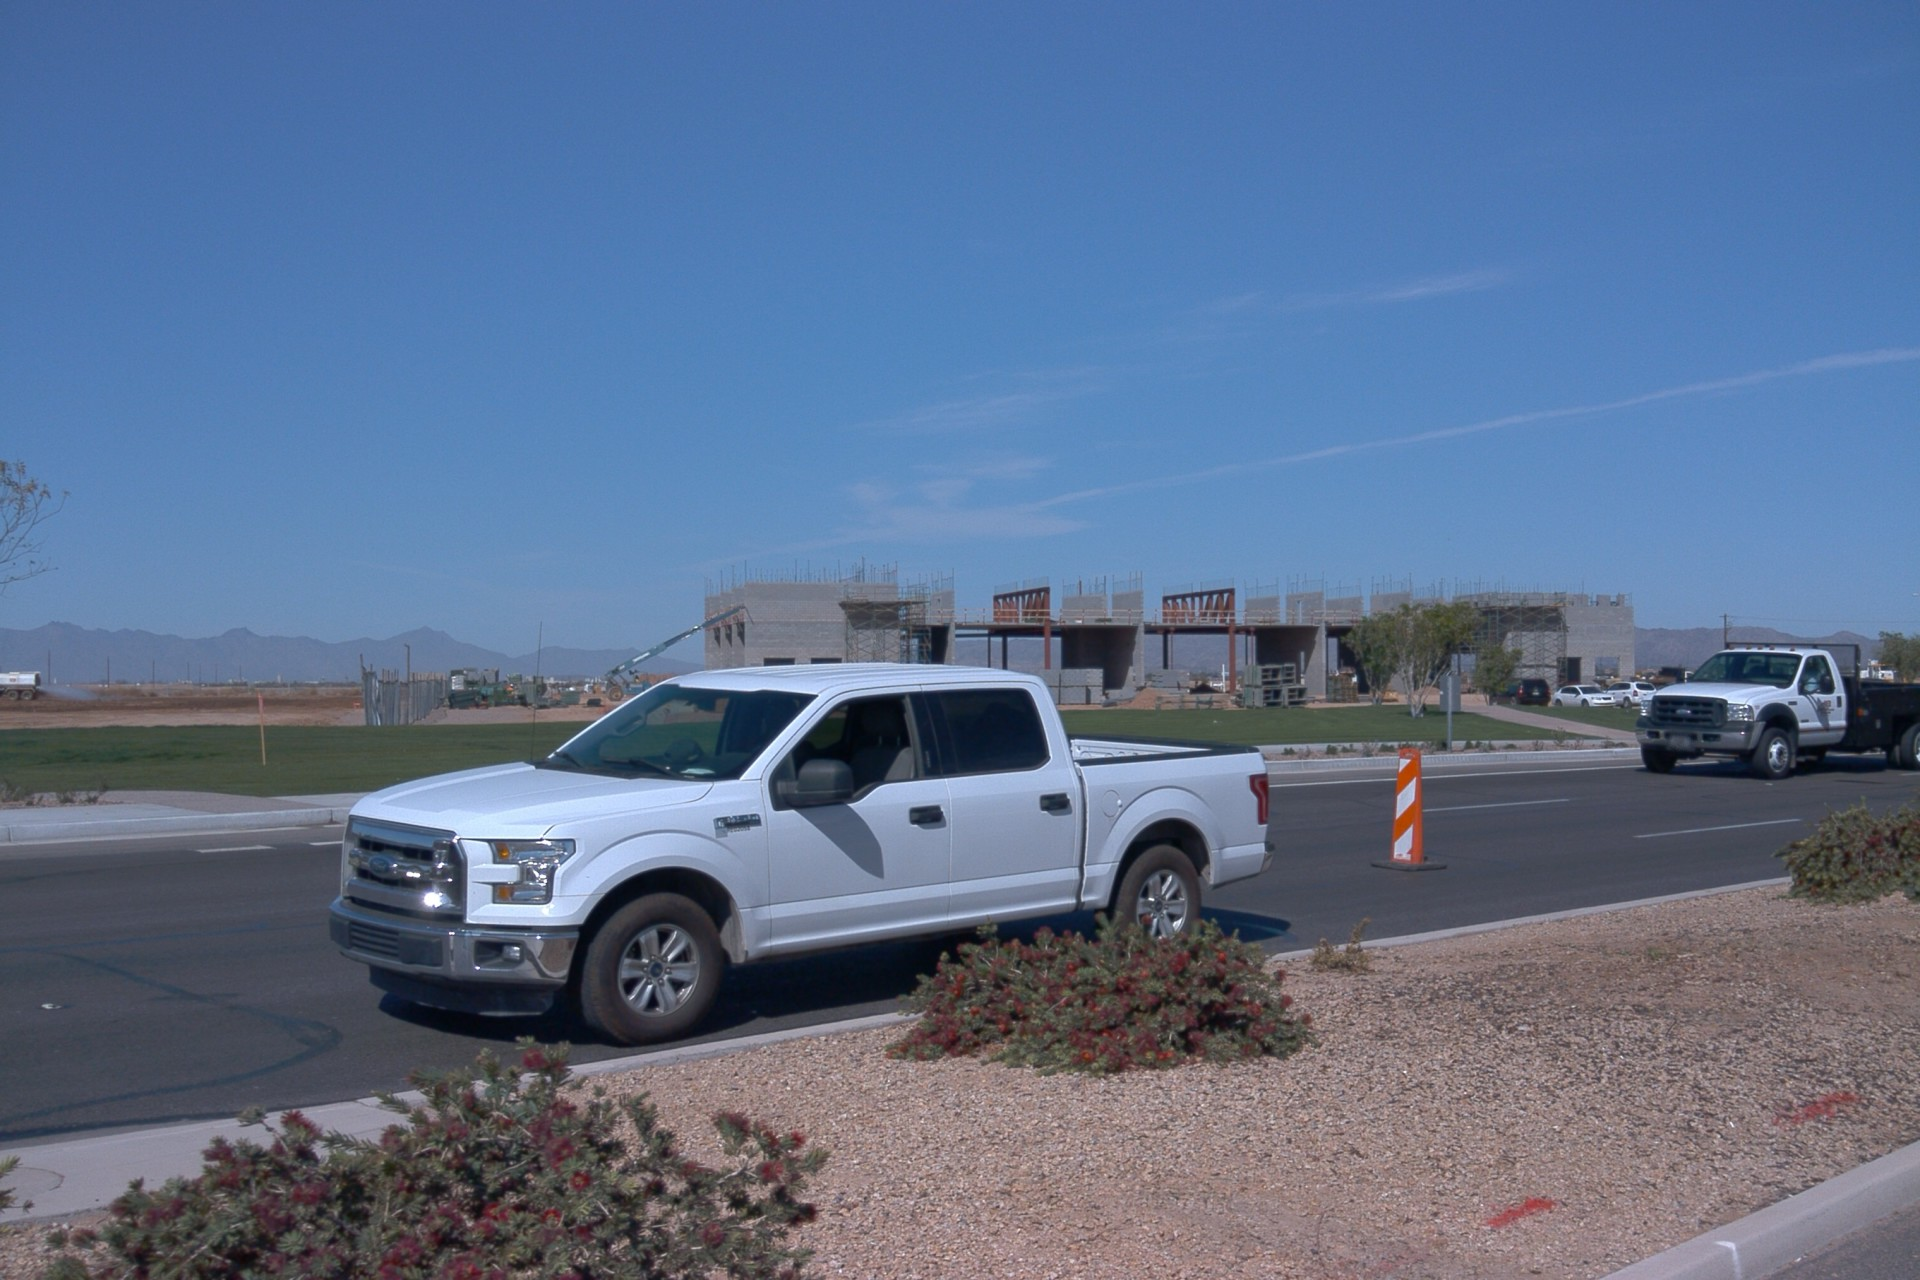TYPE_PEDESTRIAN: (506, 685, 514, 693)
TYPE_VEHICLE: (322, 653, 1282, 1051), (1636, 638, 1920, 777), (600, 603, 754, 705), (1489, 679, 1552, 711), (0, 670, 45, 711), (1601, 683, 1657, 714), (1550, 687, 1616, 710), (1850, 664, 1900, 685), (1648, 674, 1699, 690)
